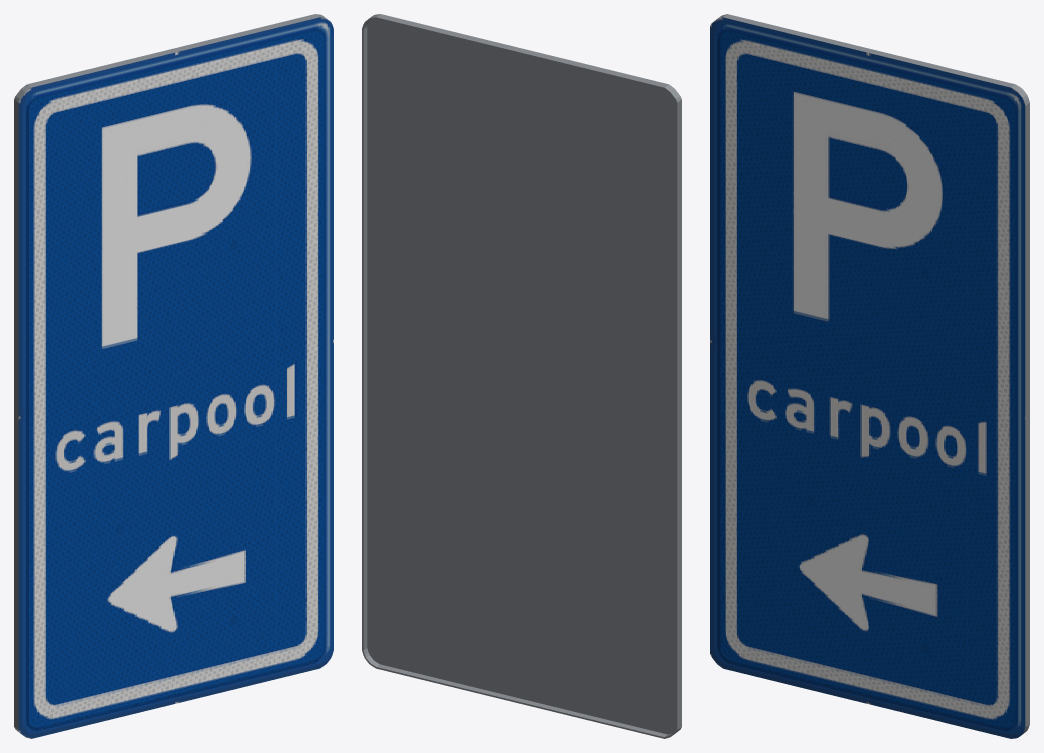
3 views of the same model, side by side, from view 1: azimuth 30°, elevation 25°; view 2: azimuth 150°, elevation 25°; view 3: azimuth 330°, elevation 25° (orthographic).
Visible parts, largest first — view 1: cat_640530554276e9e8; view 2: cat_640530554276e9e8; view 3: cat_640530554276e9e8.
Boxes of the visible parts, x1=… form: cat_640530554276e9e8: x1=14, y1=14, x2=333, y2=738; cat_640530554276e9e8: x1=362, y1=14, x2=681, y2=738; cat_640530554276e9e8: x1=710, y1=14, x2=1029, y2=738.
Bounding box in the file's own units: 0.6 × 0.015 × 1.18.
2 materials, 1 textured.
